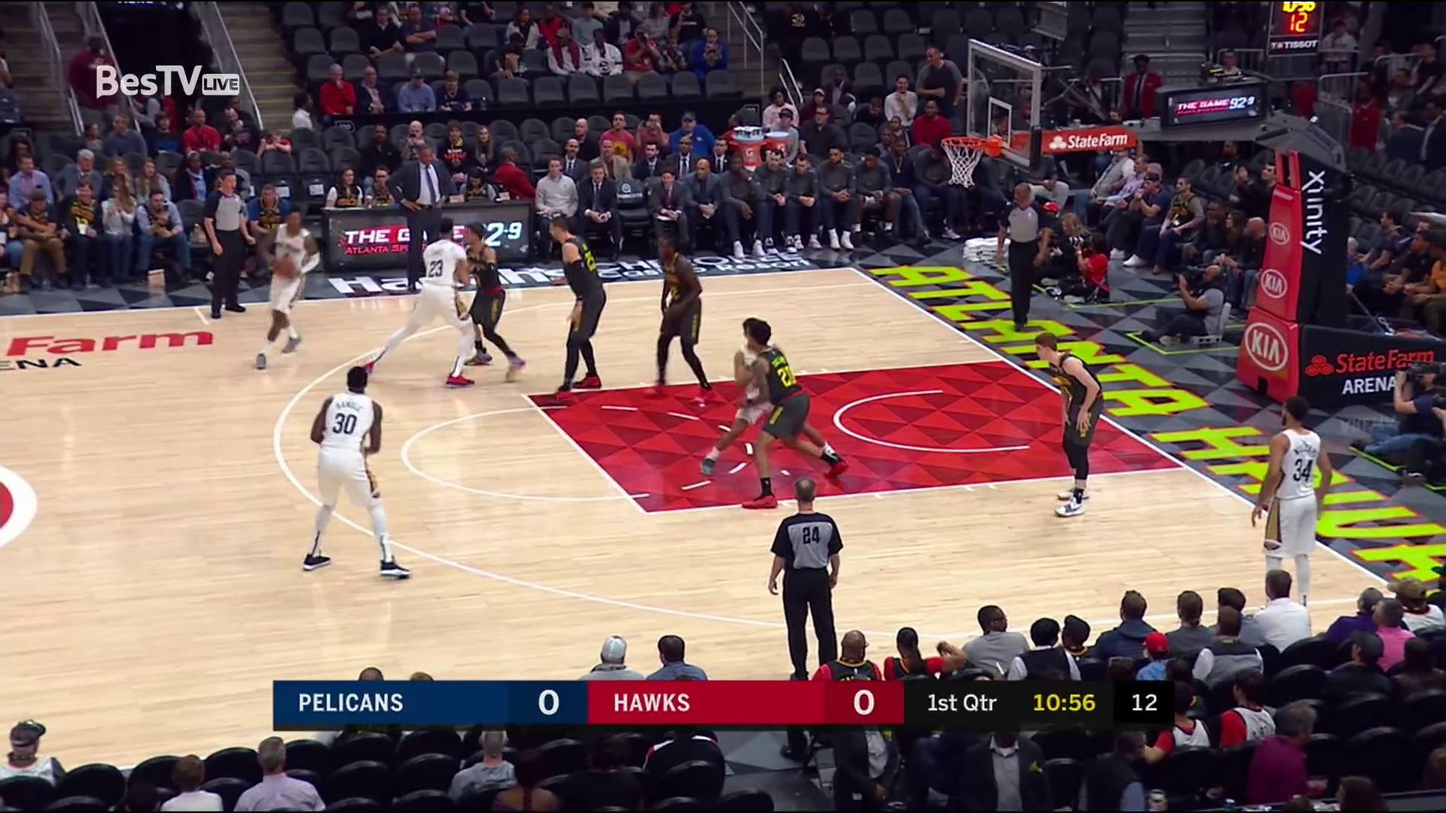basketball: (265, 253, 295, 280)
